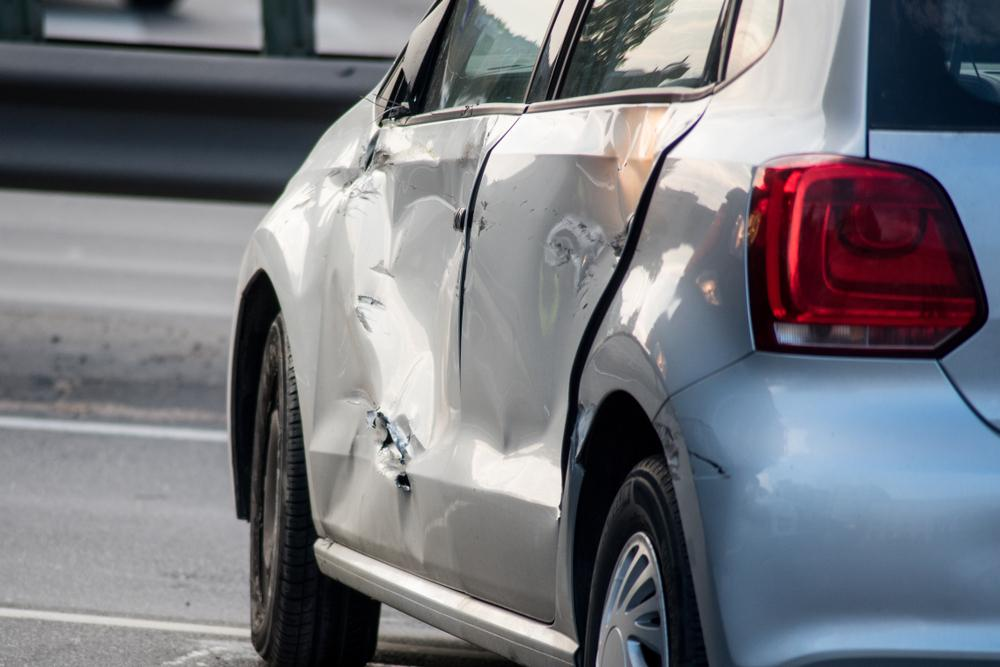crack: (380, 416, 417, 499)
dent: (448, 107, 671, 485), (311, 115, 488, 545)
scratch: (656, 415, 734, 484)
